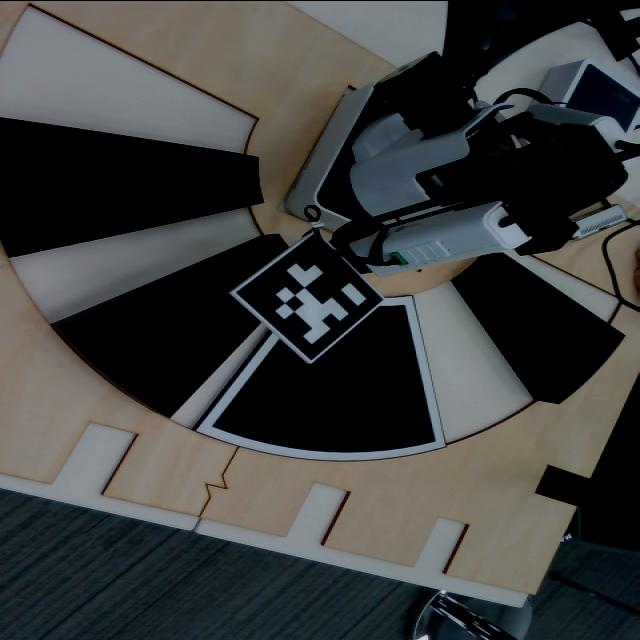board: (208, 295, 452, 476)
box: (50, 167, 311, 426), (0, 82, 271, 250), (441, 225, 618, 403)
